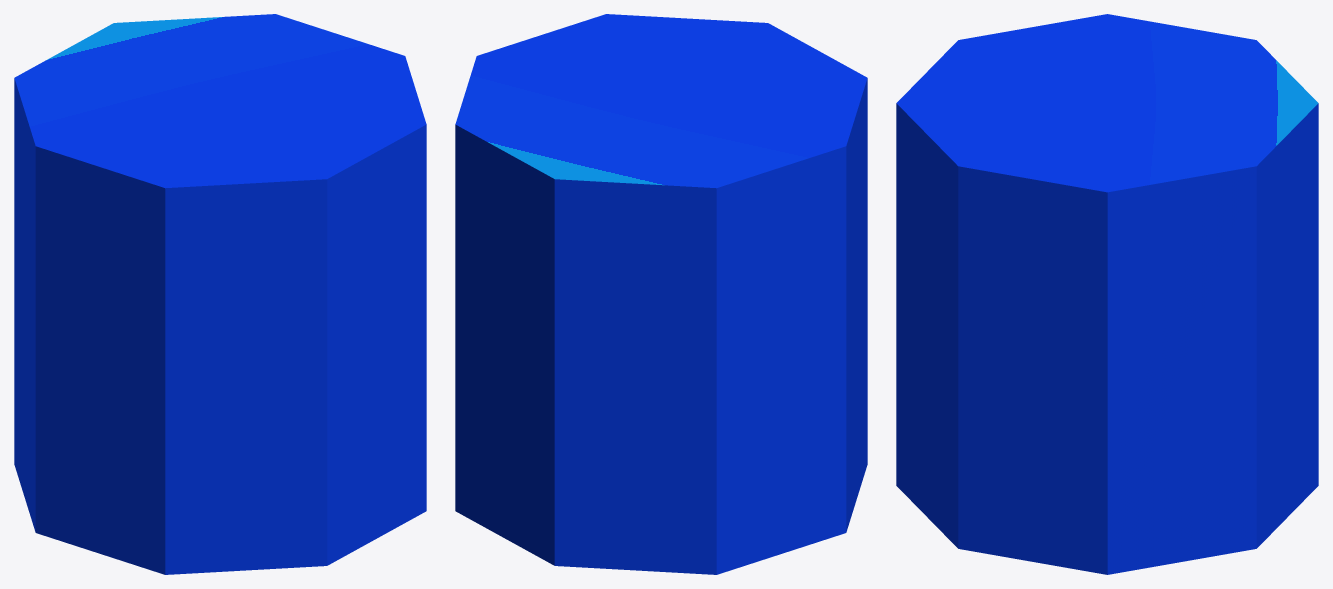
Rendered from pCylinderShape1.dae.
3 renders of one model, left to right at view 1: azimuth 30°, elevation 25°; view 2: azimuth 150°, elevation 25°; view 3: azimuth 270°, elevation 25°, orthographic.
Visible parts, largest first — view 1: pCylinder1; view 2: pCylinder1; view 3: pCylinder1.
Part boxes in pixels (<box>): pCylinder1: <box>14,14,426,574</box>; pCylinder1: <box>455,14,867,574</box>; pCylinder1: <box>896,14,1318,574</box>.
Size of the model in its own units: 2 by 2 by 2.
Materials: 1 (1 with a texture image).
